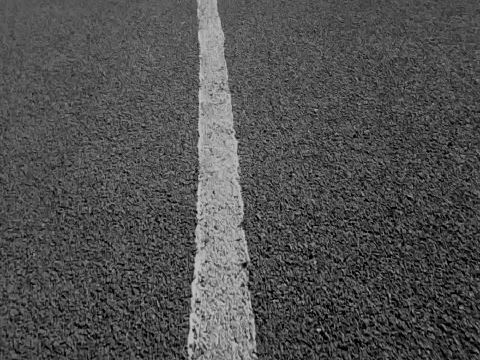Lines: (190, 0, 259, 360)
